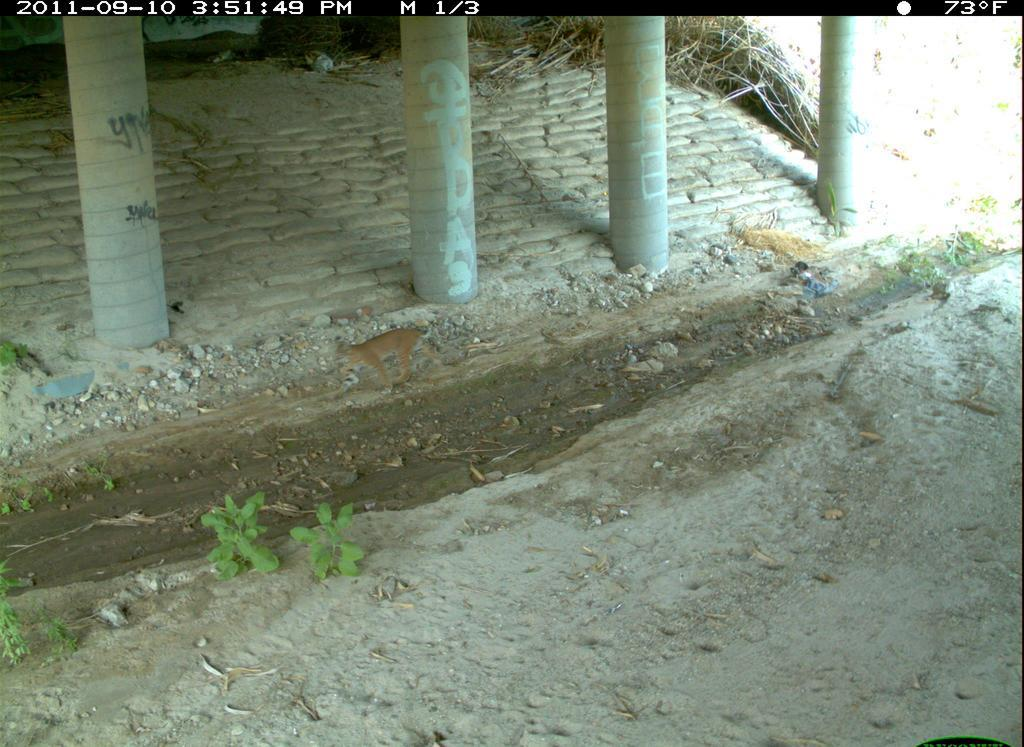bobcat: (643, 637, 894, 747)
